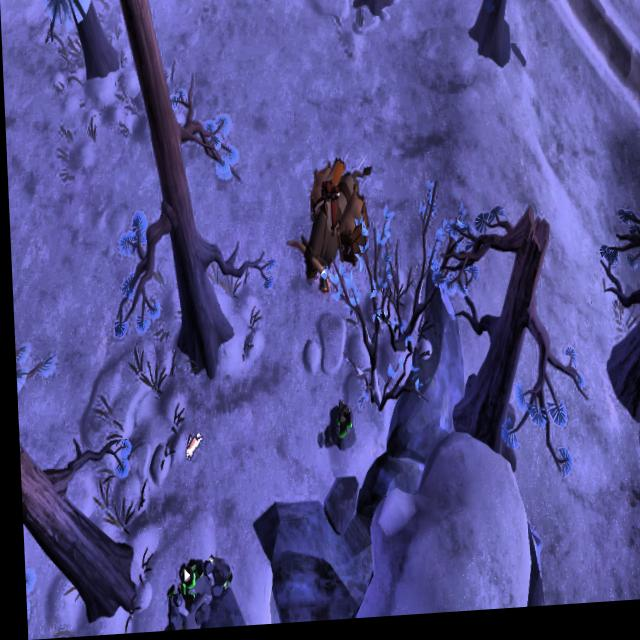ore_t3: (330, 401, 348, 446)
